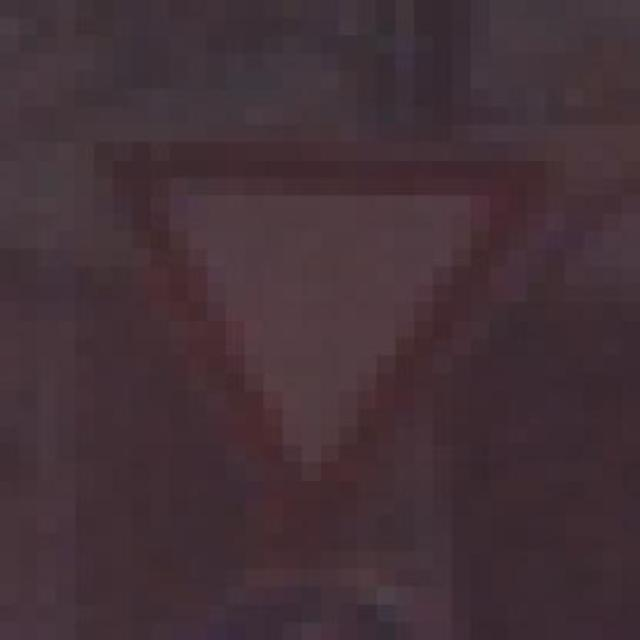Give Way: (76, 106, 564, 569)
